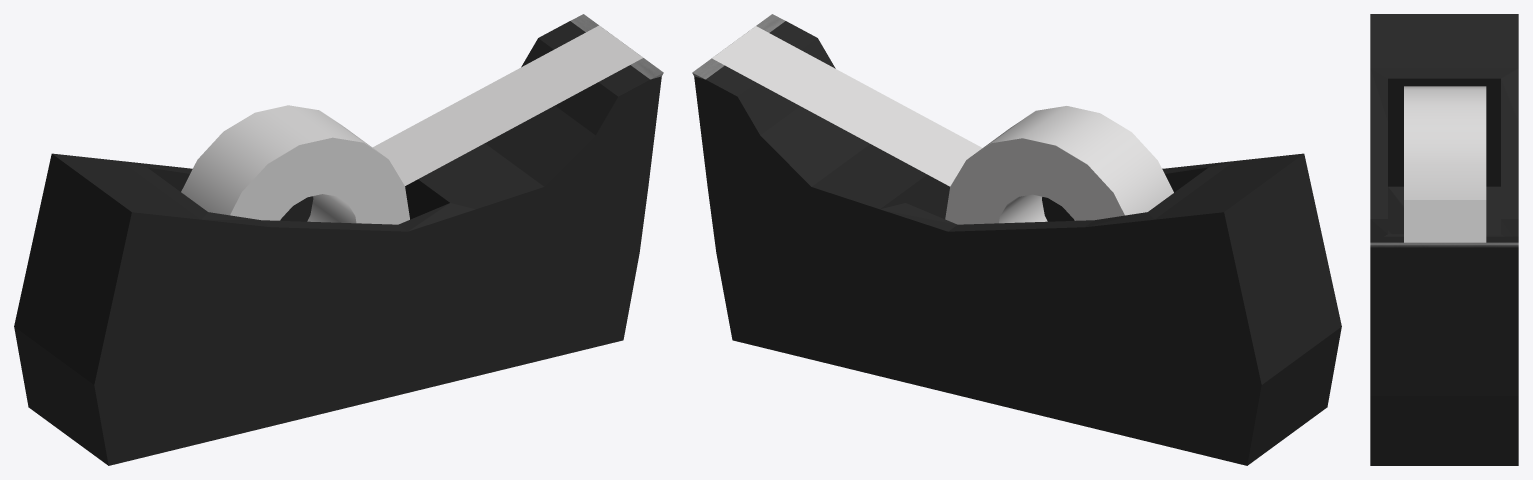
File: tape dispenser.FBX
3 views of the same model, side by side, from view 1: azimuth 30°, elevation 25°; view 2: azimuth 150°, elevation 25°; view 3: azimuth 270°, elevation 25° (orthographic). The views are drawn at different scales.
Visible parts, largest first — view 1: Box001, Tube001; view 2: Box001, Tube001; view 3: Box001, Tube001.
Part boxes in pixels (x1,y1,x2,y2): Box001: (14, 14, 663, 465); Tube001: (181, 25, 642, 224); Box001: (692, 14, 1341, 465); Tube001: (712, 26, 1173, 224); Box001: (1370, 14, 1518, 465); Tube001: (1404, 86, 1486, 242).
Size of the model in its own units: 103 by 44.8 by 25.07.
3 materials, 3 textured.
